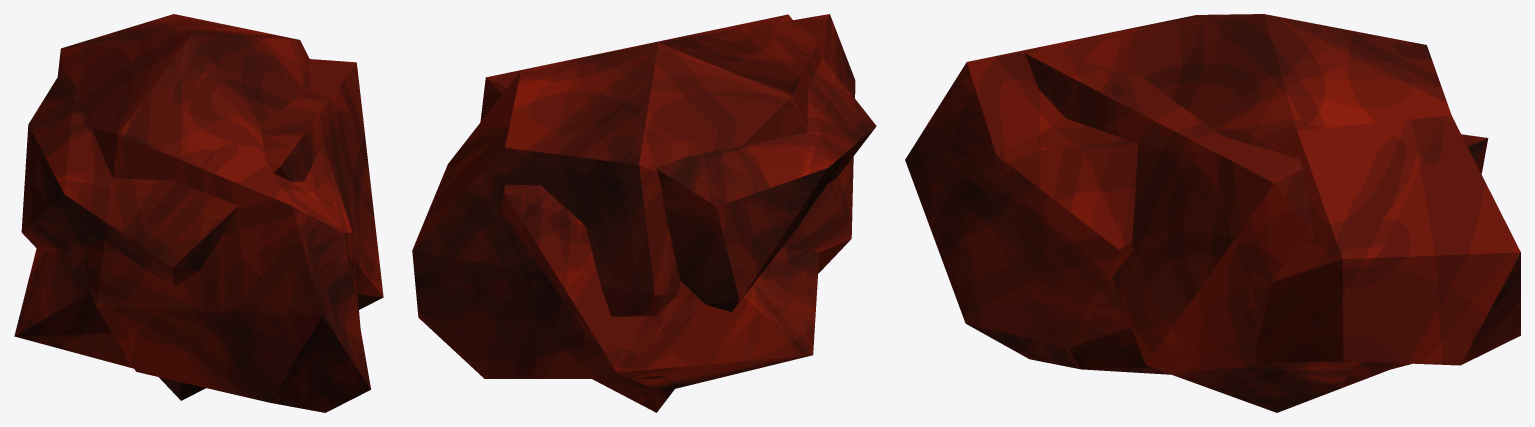
File: gibs.glb
3 renders of one model, left to right at view 1: azimuth 30°, elevation 25°; view 2: azimuth 150°, elevation 25°; view 3: azimuth 270°, elevation 25°, orthographic. The views are drawn at different scales.
Parts seen in each view (by area): view 1: Meat.003, Meat.001, Meat.002; view 2: Meat.003, Meat.001, Meat.002; view 3: Meat.003, Meat.001.
Part boxes in pixels (bbox=[...]): Meat.003: bbox=[57, 14, 370, 412]; Meat.001: bbox=[21, 42, 383, 400]; Meat.002: bbox=[14, 243, 133, 368]; Meat.003: bbox=[412, 14, 855, 378]; Meat.001: bbox=[480, 14, 876, 412]; Meat.002: bbox=[499, 184, 819, 389]; Meat.003: bbox=[905, 14, 1520, 384]; Meat.001: bbox=[1025, 45, 1416, 412].
Size of the model in its own units: 1.77 by 1.82 by 2.53.
Materials: 1 (1 with a texture image).
